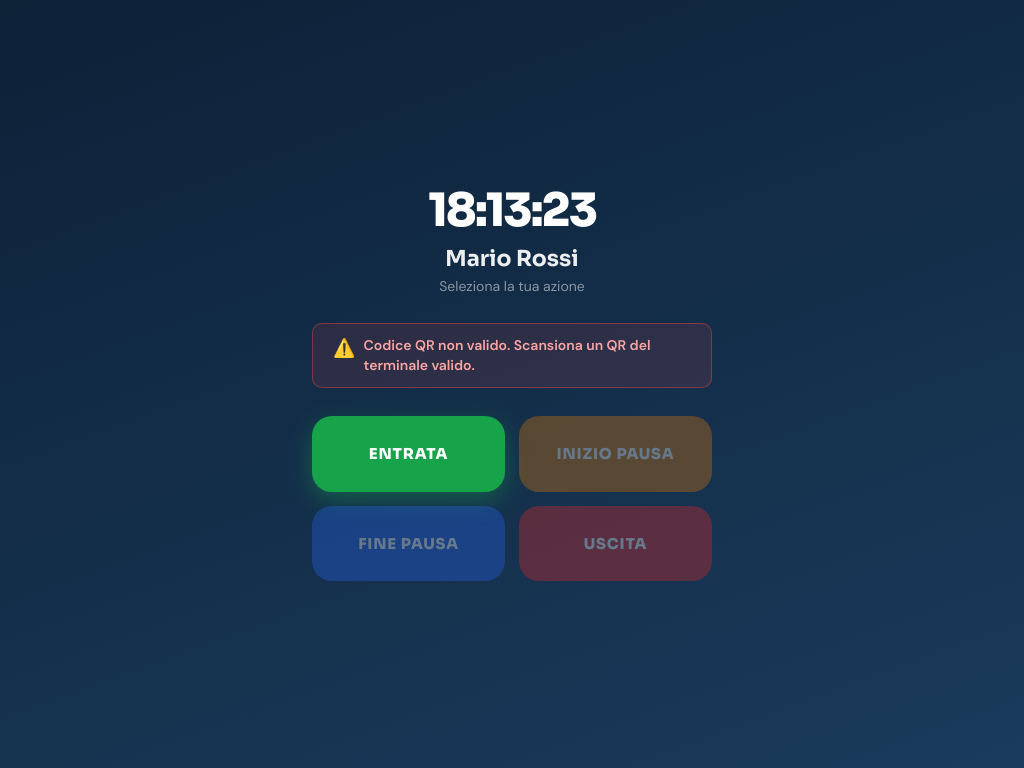
Test: ScanPage — employee with token › shows success screen with checkmark after successful recordCheckin
The width and height of the screenshot is (1024, 768).
Click the button with test id "scan-action-checkin": (408, 454) x1=312 y1=416 x2=505 y2=492
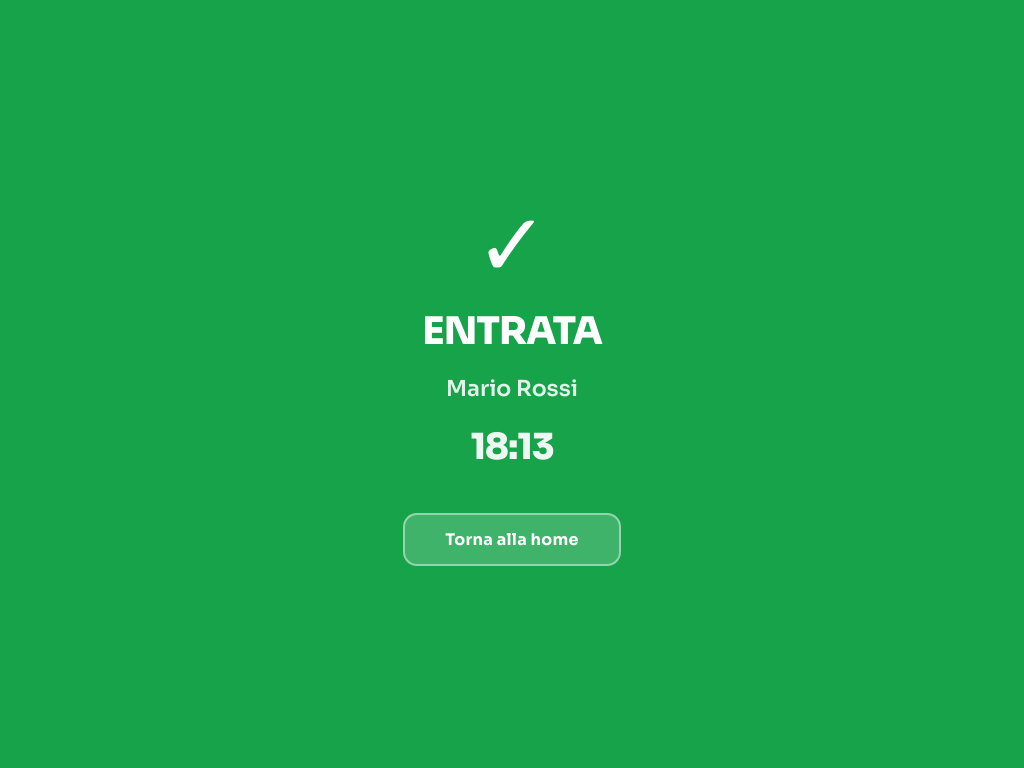
Result: the text "✓" is shown at x1=475 y1=202 x2=549 y2=290
